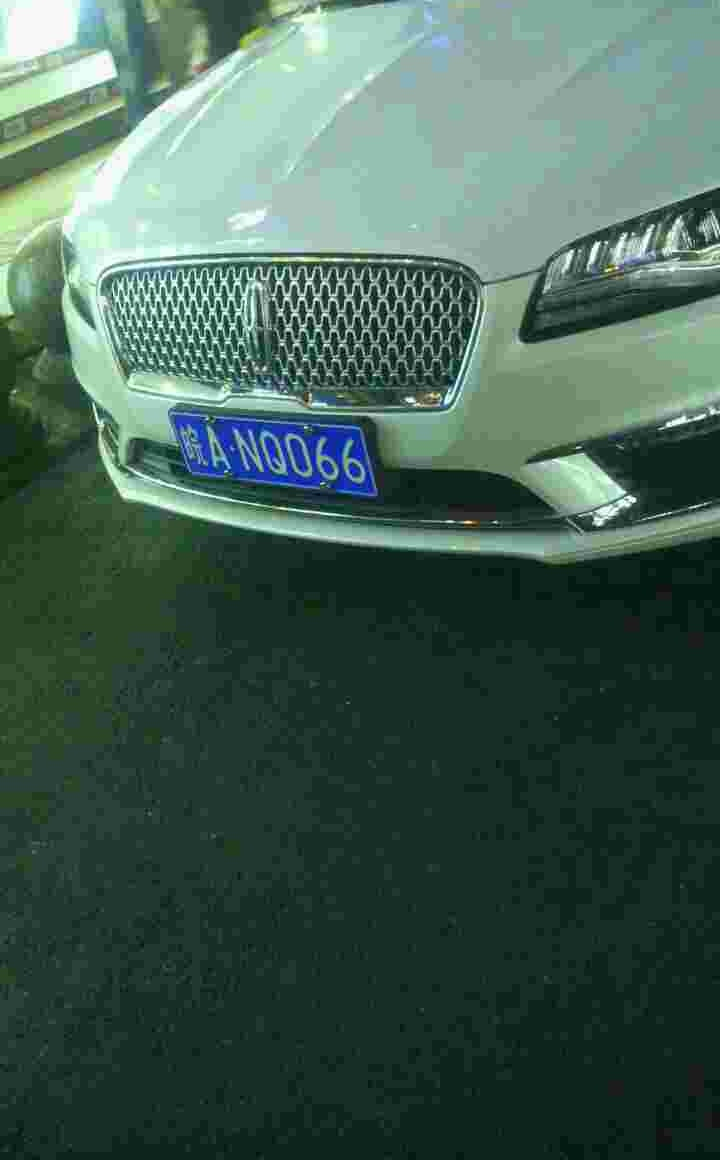plate: (162, 405, 385, 500)
